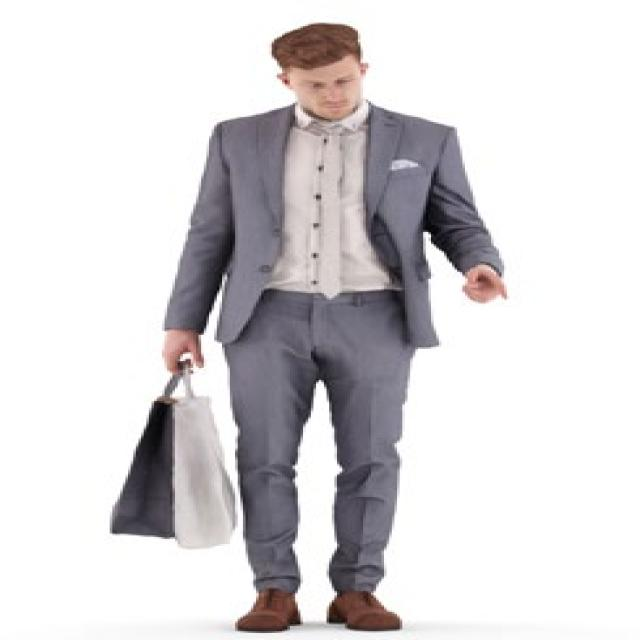standing: (154, 19, 517, 637)
